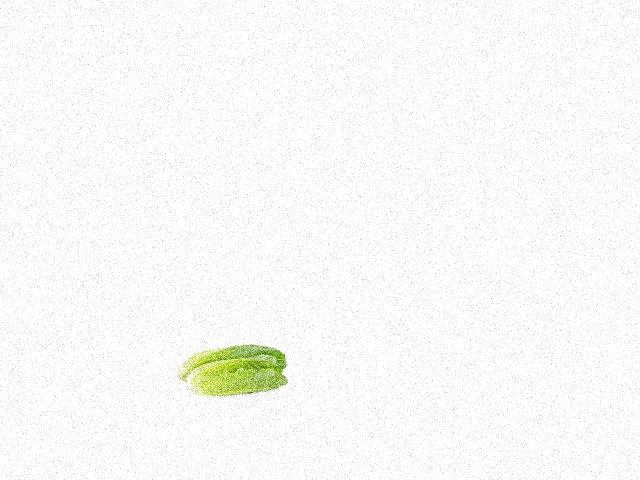lettuce: (177, 344, 289, 403)
